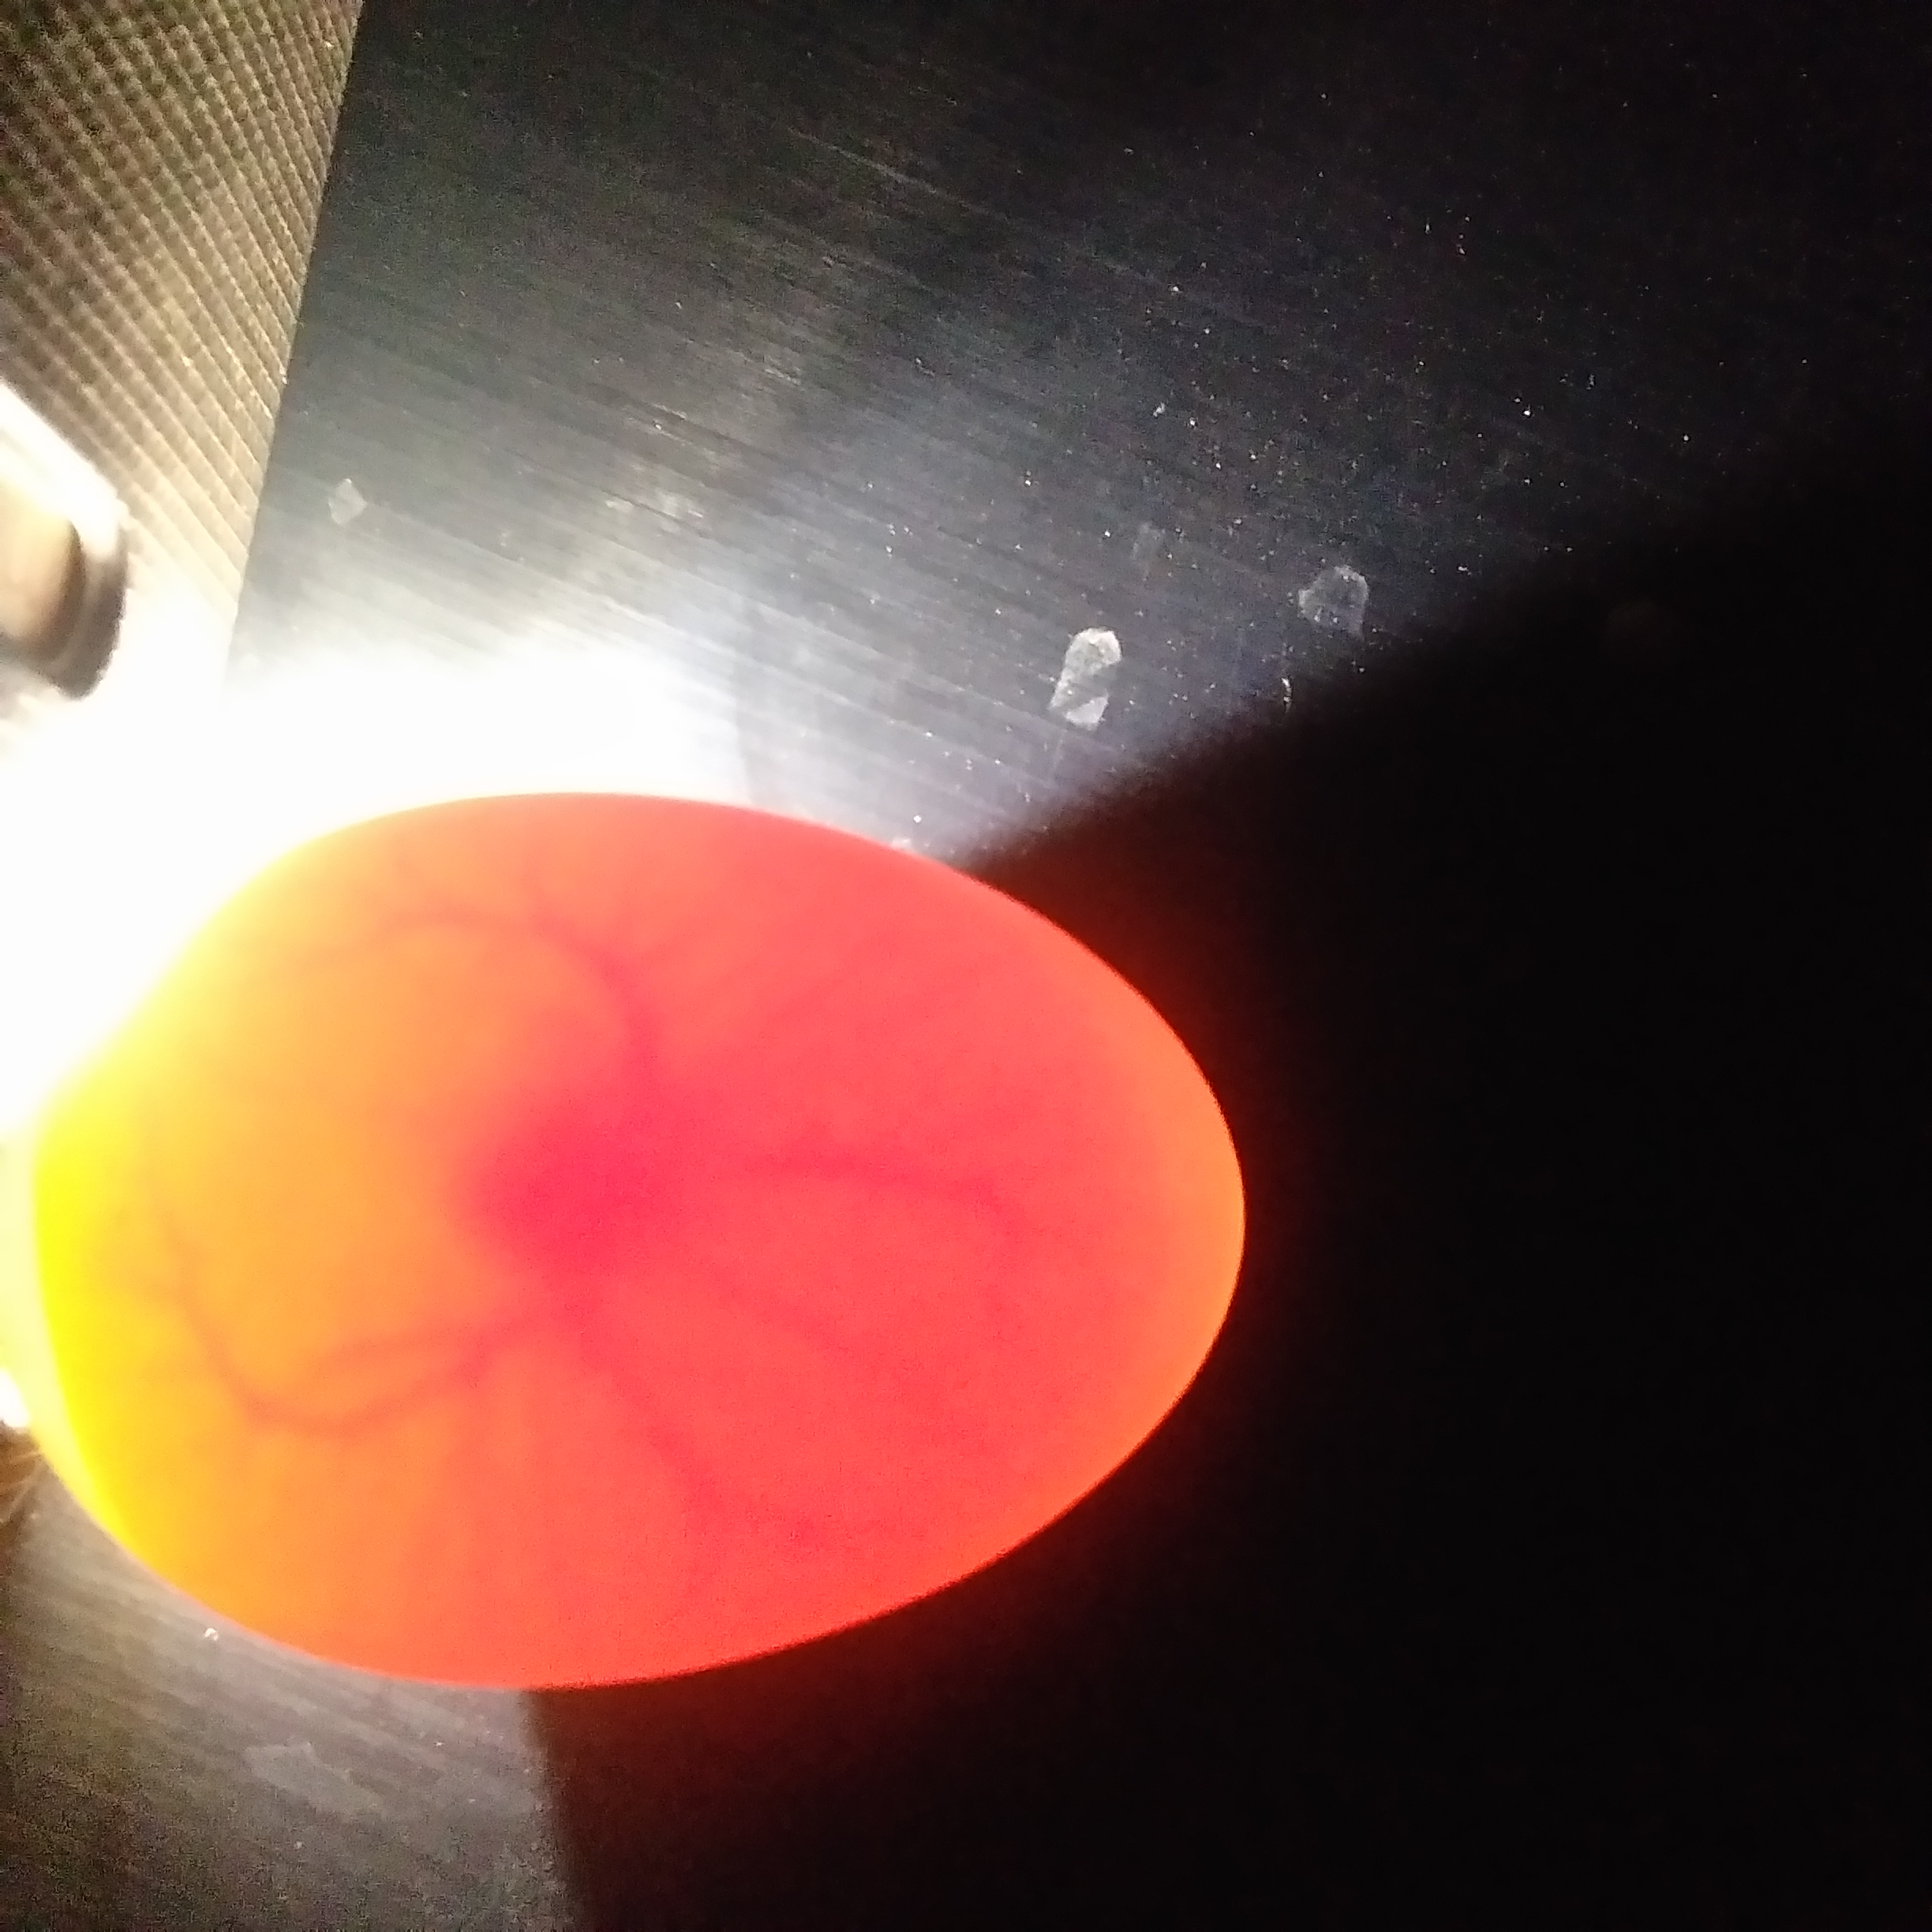bloodcell: (170, 1345, 890, 1589)
embryo: (437, 1072, 747, 1297)
